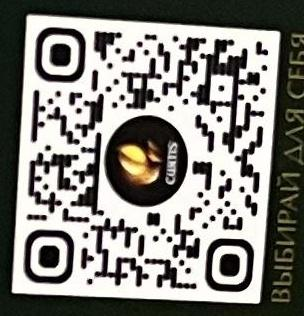qrcode: (24, 28, 270, 294)
